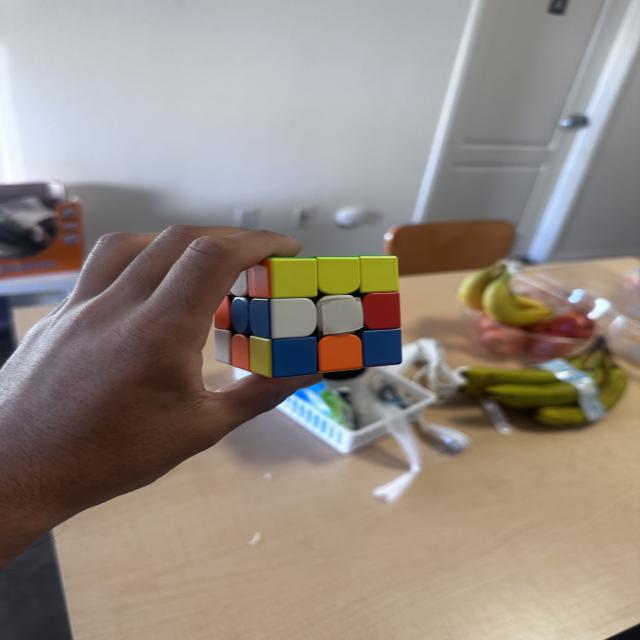sticker: (270, 258, 318, 298), (321, 331, 364, 375), (271, 298, 318, 338), (273, 338, 319, 378), (320, 295, 364, 335), (358, 256, 400, 294), (317, 257, 360, 294), (363, 329, 402, 368), (363, 291, 401, 330)
